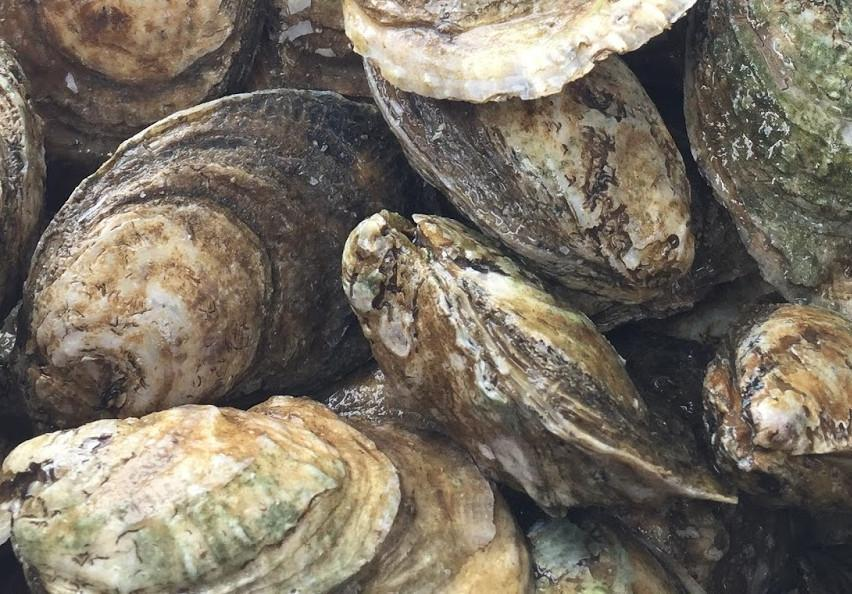3: (514, 499, 709, 594)
Oyster-Closed: (9, 88, 443, 435), (340, 212, 736, 516), (366, 57, 699, 302), (0, 396, 401, 594), (685, 0, 852, 323), (0, 0, 276, 175), (343, 0, 695, 102), (334, 414, 533, 594), (704, 302, 852, 512), (0, 44, 46, 324)
Oyster-Open: (545, 105, 760, 333), (609, 503, 852, 594), (242, 0, 373, 99)
